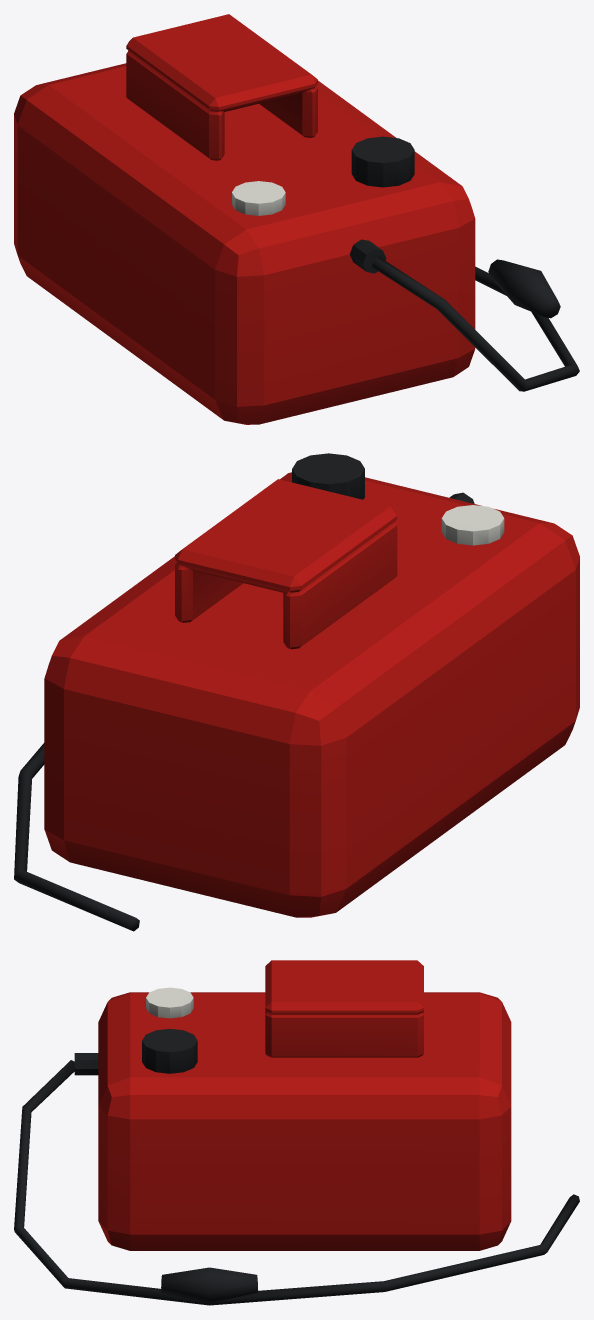
Rendered from boat_fuel_tank.glb.
3 views of the same model, one above another, from view 1: azimuth 30°, elevation 25°; view 2: azimuth 150°, elevation 25°; view 3: azimuth 270°, elevation 25° (orthographic). The views are drawn at different scales.
Parts seen in each view (by area): view 1: boat_fuel_tank_LOD0; view 2: boat_fuel_tank_LOD0; view 3: boat_fuel_tank_LOD0.
Boxes of the visible parts, <box> form: boat_fuel_tank_LOD0: <box>14,14,579,424</box>; boat_fuel_tank_LOD0: <box>14,453,579,931</box>; boat_fuel_tank_LOD0: <box>14,960,579,1305</box>.
Size of what is drawn, in the model's own units: 0.484 by 0.315 by 0.7127.
